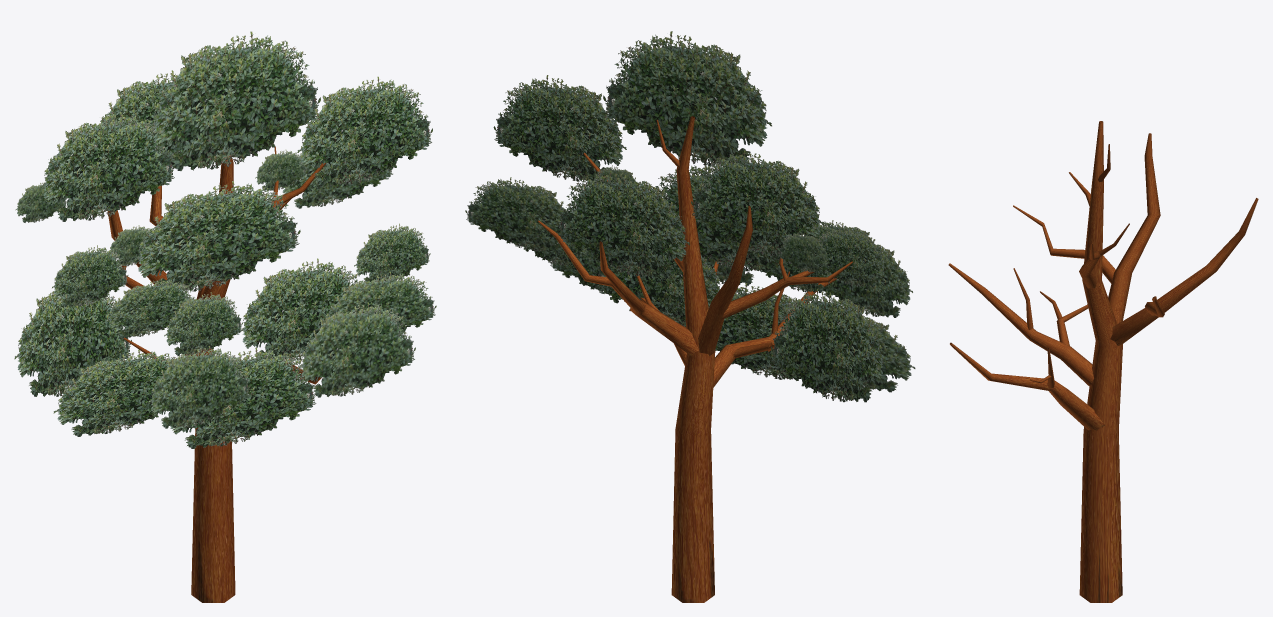
File: Tree.fbx
3 renders of one model, left to right at view 1: azimuth 30°, elevation 25°; view 2: azimuth 150°, elevation 25°; view 3: azimuth 270°, elevation 25°, orthographic. The views are drawn at different scales.
Visible parts, largest first — view 1: pPlane13, pPlane14, pPlane16, pPlane11, pPlane7, pPlane1, extrudedSurface1, pPlane3, pPlane20, pPlane6, pPlane4, pPlane2 (+9 smaller); view 2: pPlane13, extrudedSurface1, pPlane18, pPlane16, pPlane7, pPlane11, pPlane15, pPlane20, pPlane3, pPlane14, pPlane4, pPlane9 (+10 smaller); view 3: extrudedSurface1, extrudedSurface2, extrudedSurface12, extrudedSurface7, extrudedSurface4, extrudedSurface16, extrudedSurface3.
Boxes of the visible parts, x1,y1,x2,y2 form: pPlane13: (148,31,320,171); pPlane14: (133,181,300,291); pPlane16: (297,76,432,186); pPlane11: (40,112,174,221); pPlane7: (14,290,131,396); pPlane1: (298,302,415,397); extrudedSurface1: (185,155,235,602); pPlane3: (240,258,359,362); pPlane20: (167,347,316,448); pPlane6: (53,349,182,436); pPlane4: (148,345,250,428); pPlane2: (322,272,436,334); pPlane13: (603,31,771,165); extrudedSurface1: (671,116,715,602); pPlane18: (557,170,689,278); pPlane16: (493,75,626,181); pPlane7: (771,288,886,402); pPlane11: (691,150,823,256); pPlane15: (465,177,567,253); pPlane20: (715,283,804,380); pPlane3: (595,254,720,326); pPlane14: (655,165,800,273); pPlane4: (823,244,912,317); pPlane9: (819,227,885,287); extrudedSurface1: (1079,121,1122,602); extrudedSurface2: (1108,133,1160,323); extrudedSurface12: (1110,198,1258,345); extrudedSurface7: (948,263,1093,387); extrudedSurface4: (950,342,1104,430); extrudedSurface16: (1013,205,1085,258); extrudedSurface3: (1079,242,1100,288).
Size of the model in its own units: 10.13 by 13.28 by 6.92.
